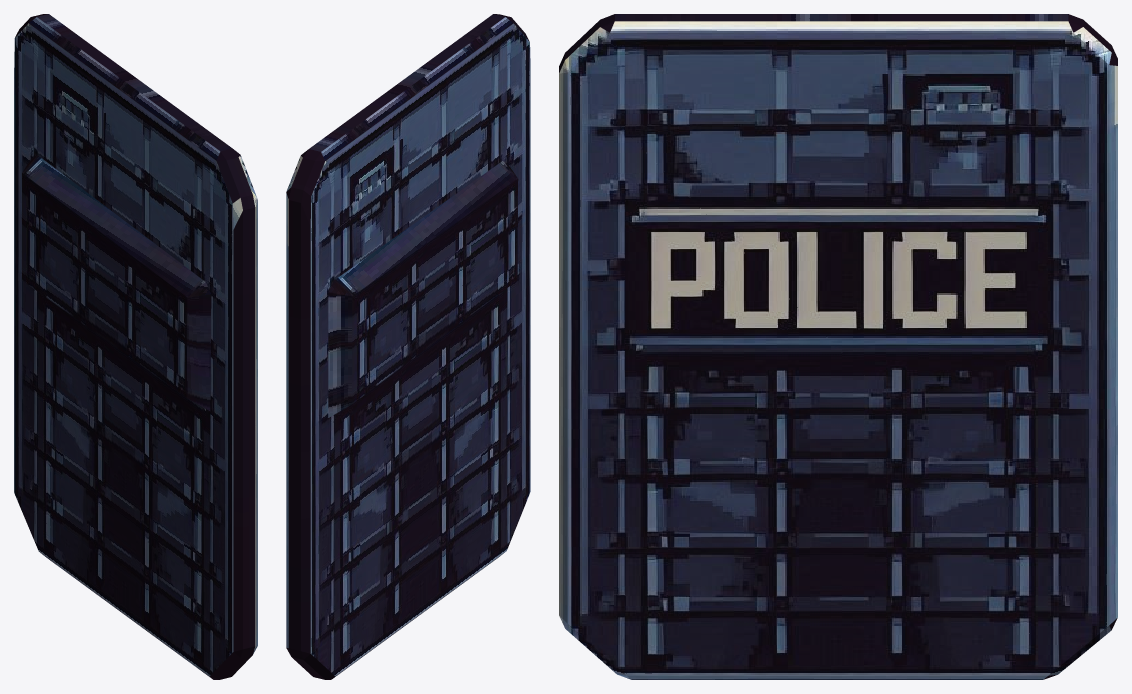
File: riotshield.glb
The picture shows the model from 3 angles, left to right: view 1: azimuth 30°, elevation 25°; view 2: azimuth 150°, elevation 25°; view 3: azimuth 270°, elevation 25°; orthographic projection. The views are drawn at different scales.
Parts seen in each view (by area): view 1: OIG1.tCj4ZEwQzajJ_g2m_n; view 2: OIG1.tCj4ZEwQzajJ_g2m_n; view 3: OIG1.tCj4ZEwQzajJ_g2m_n.
Boxes of the visible parts, <box> form: OIG1.tCj4ZEwQzajJ_g2m_n: <box>14,14,257,679</box>; OIG1.tCj4ZEwQzajJ_g2m_n: <box>286,14,530,679</box>; OIG1.tCj4ZEwQzajJ_g2m_n: <box>559,14,1117,679</box>.
Bounding box in the file's own units: 0.0421 × 0.5229 × 0.4021.
Materials: 1 (1 with a texture image).
